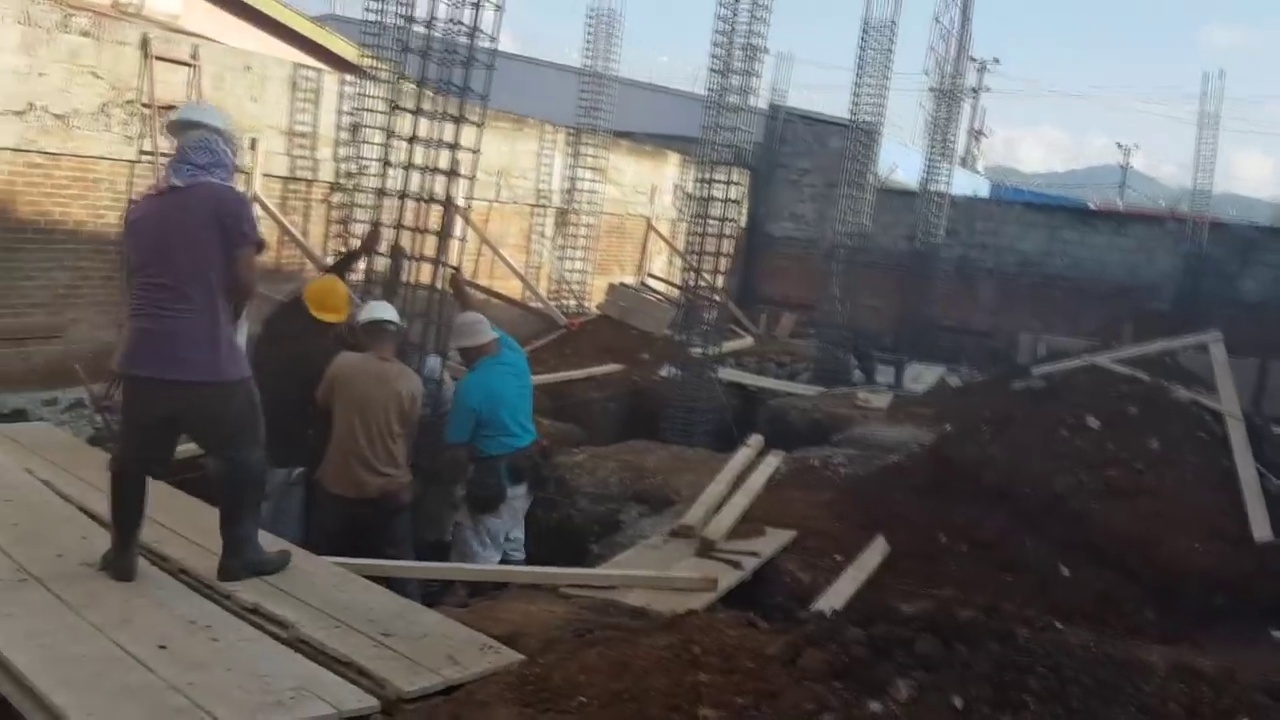helmet: (159, 100, 238, 139), (300, 275, 346, 325), (355, 299, 403, 332)
helmet-off: (448, 310, 501, 366)
helmet-on: (156, 102, 235, 192), (293, 271, 353, 330), (355, 300, 404, 360)
person: (100, 82, 282, 597), (317, 285, 420, 574), (435, 300, 540, 582), (260, 271, 356, 504)
